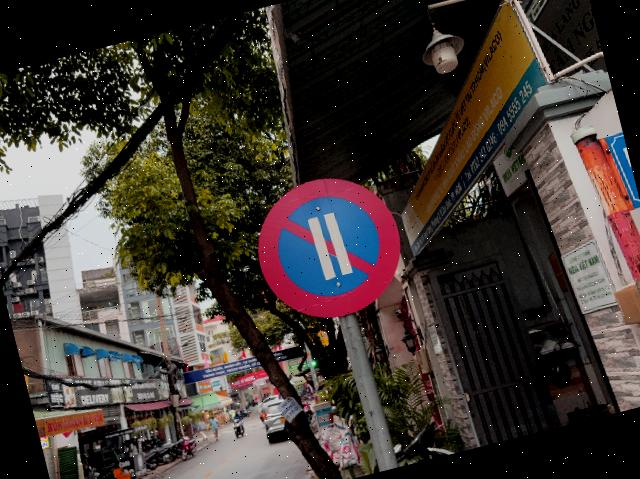cam-do-xe-ngay-chan: (245, 162, 416, 332)
